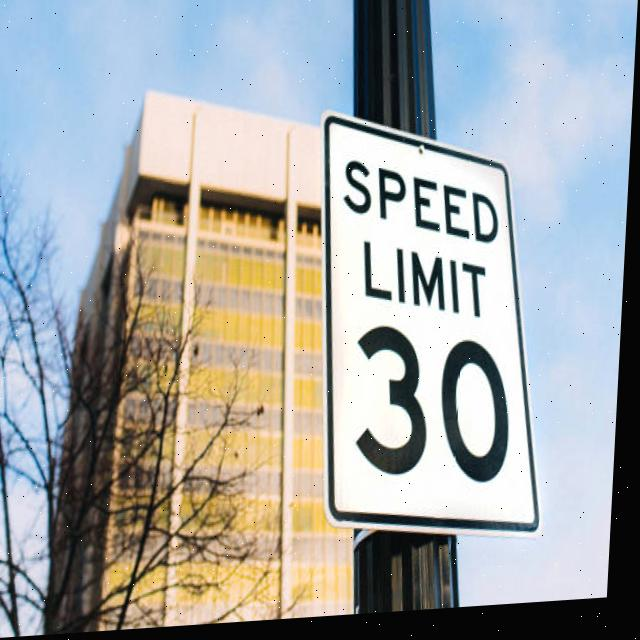Speed limit 30: (304, 100, 567, 561)
